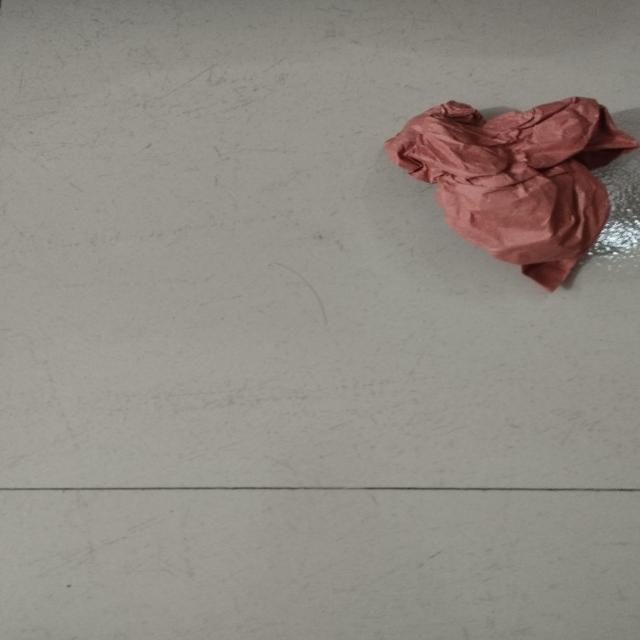paper: (388, 92, 640, 293)
